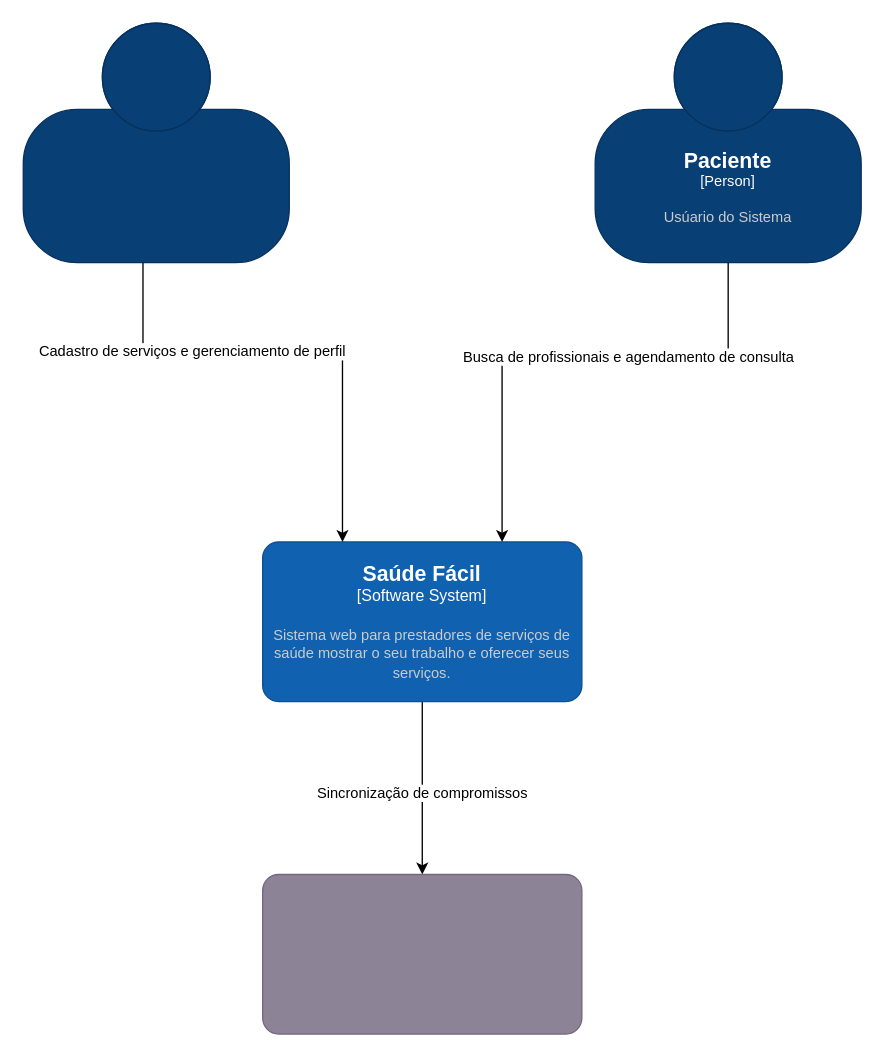
Some shapes in this 884 by 1057 pixel diagram are drawn without their labels. Here are the shapes that lost their labels. From the top down, the box of each, then its label:
(22, 22, 289, 263): Profissional da Saúde [Person] Usuário do sistema
(261, 873, 582, 1034): Sistema de agendamento [Software System] Google Calendar API
